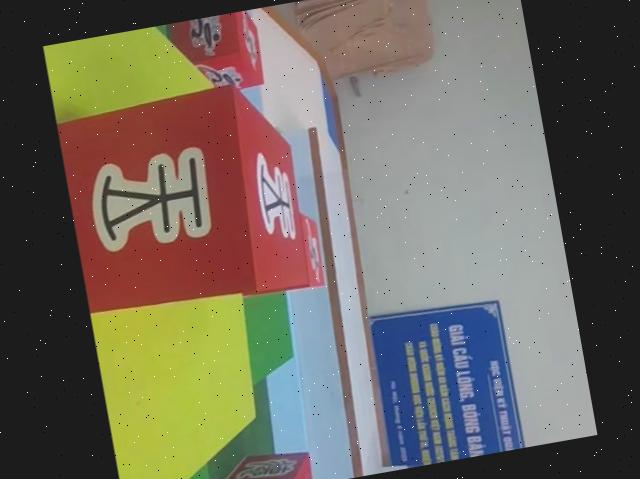R1: (168, 7, 273, 97)
R2 Fake: (202, 441, 317, 479)
R2 Real: (54, 69, 320, 324)
